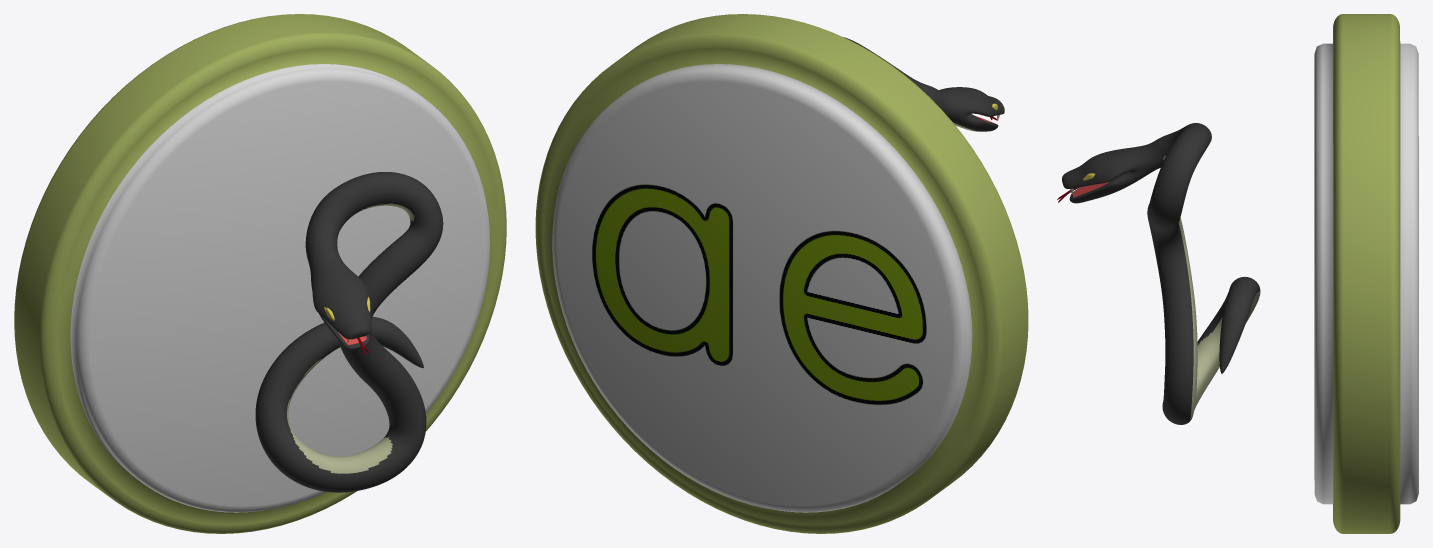
The model's file is snake2.gltf.
3 renders of one model, left to right at view 1: azimuth 30°, elevation 25°; view 2: azimuth 150°, elevation 25°; view 3: azimuth 270°, elevation 25°, orthographic. The views are drawn at different scales.
Visible parts, largest first — view 1: coin, Cylinder; view 2: coin, Cylinder; view 3: coin, Cylinder.
Boxes of the visible parts, x1,y1,x2,y2 form: coin: (14, 14, 506, 533); Cylinder: (255, 172, 443, 492); coin: (535, 14, 1028, 533); Cylinder: (843, 37, 1004, 131); coin: (1314, 14, 1418, 533); Cylinder: (1062, 123, 1260, 424).
Bounding box in the file's own units: 2.56 × 2.56 × 1.78.
Materials: 8 (1 with a texture image).
